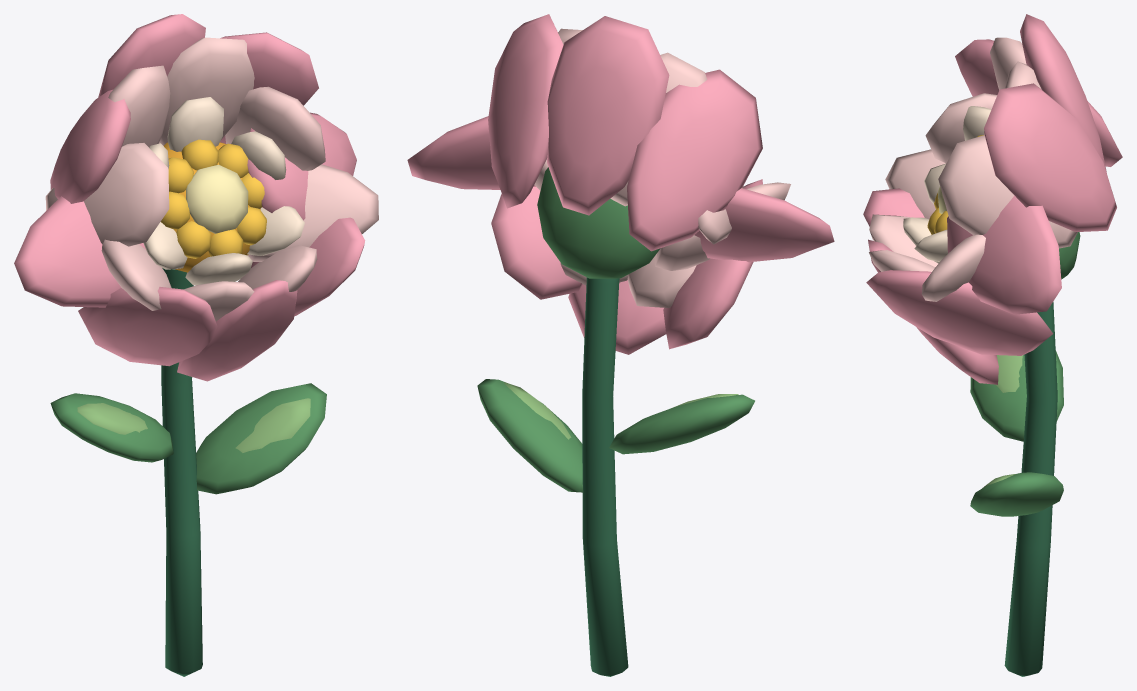
Rendered from flower.glb.
The picture shows the model from 3 angles, left to right: view 1: azimuth 30°, elevation 25°; view 2: azimuth 150°, elevation 25°; view 3: azimuth 270°, elevation 25°; orthographic projection. The views are drawn at different scales.
Parts seen in each view (by area): view 1: Body_Rosepetal, Body_Blushpetal, Body_Meadowleaf, Body_Leafshadow, Body_Creampetal, Body_Pollengold, Body_Mintleaf, Body_Buttercream, Body_Daisyheart; view 2: Body_Rosepetal, Body_Meadowleaf, Body_Leafshadow, Body_Blushpetal, Body_Mintleaf; view 3: Body_Rosepetal, Body_Blushpetal, Body_Leafshadow, Body_Meadowleaf, Body_Creampetal, Body_Mintleaf, Body_Pollengold.
Boxes of the visible parts, left/top/right/bottom form: Body_Rosepetal: left=14, top=14, right=365, bottom=381; Body_Blushpetal: left=45, top=37, right=378, bottom=321; Body_Meadowleaf: left=50, top=383, right=326, bottom=494; Body_Leafshadow: left=161, top=268, right=202, bottom=676; Body_Creampetal: left=143, top=97, right=304, bottom=285; Body_Pollengold: left=160, top=139, right=266, bottom=258; Body_Mintleaf: left=77, top=398, right=310, bottom=452; Body_Buttercream: left=186, top=164, right=248, bottom=233; Body_Daisyheart: left=164, top=142, right=260, bottom=272; Body_Rosepetal: left=407, top=14, right=834, bottom=354; Body_Meadowleaf: left=477, top=167, right=754, bottom=492; Body_Leafshadow: left=582, top=277, right=628, bottom=676; Body_Blushpetal: left=534, top=28, right=790, bottom=307; Body_Mintleaf: left=504, top=382, right=738, bottom=439; Body_Rosepetal: left=863, top=14, right=1122, bottom=384; Body_Blushpetal: left=869, top=37, right=1077, bottom=301; Body_Leafshadow: left=1004, top=302, right=1057, bottom=676; Body_Meadowleaf: left=970, top=232, right=1080, bottom=516; Body_Creampetal: left=903, top=106, right=991, bottom=263; Body_Mintleaf: left=982, top=355, right=1022, bottom=488; Body_Pollengold: left=927, top=135, right=983, bottom=234.
Bounding box in the file's own units: 0.5023 × 0.8351 × 0.3031.
